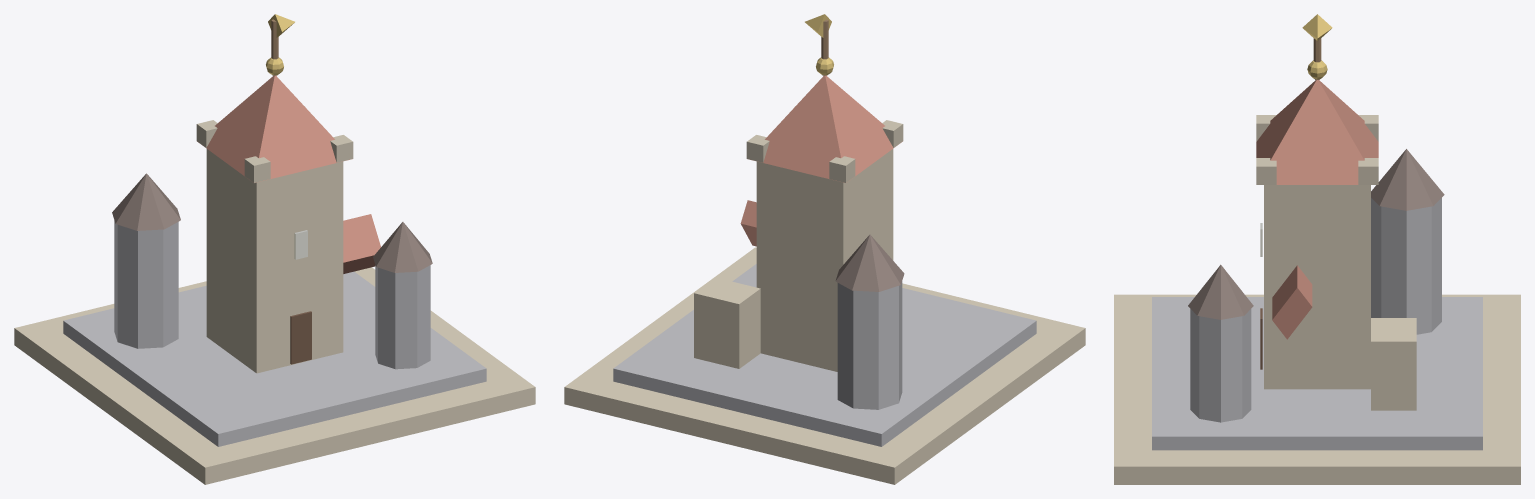
File: city-capital-0.glb
3 renders of one model, left to right at view 1: azimuth 30°, elevation 25°; view 2: azimuth 150°, elevation 25°; view 3: azimuth 270°, elevation 25°, orthographic. The views are drawn at different scales.
Visible parts, largest first — view 1: city-capital-0; view 2: city-capital-0; view 3: city-capital-0.
Boxes of the visible parts, x1=… form: city-capital-0: x1=14, y1=14, x2=535, y2=484; city-capital-0: x1=564, y1=14, x2=1085, y2=484; city-capital-0: x1=1114, y1=14, x2=1520, y2=484.
Bounding box in the file's own units: 1.6 × 1.67 × 1.6.
